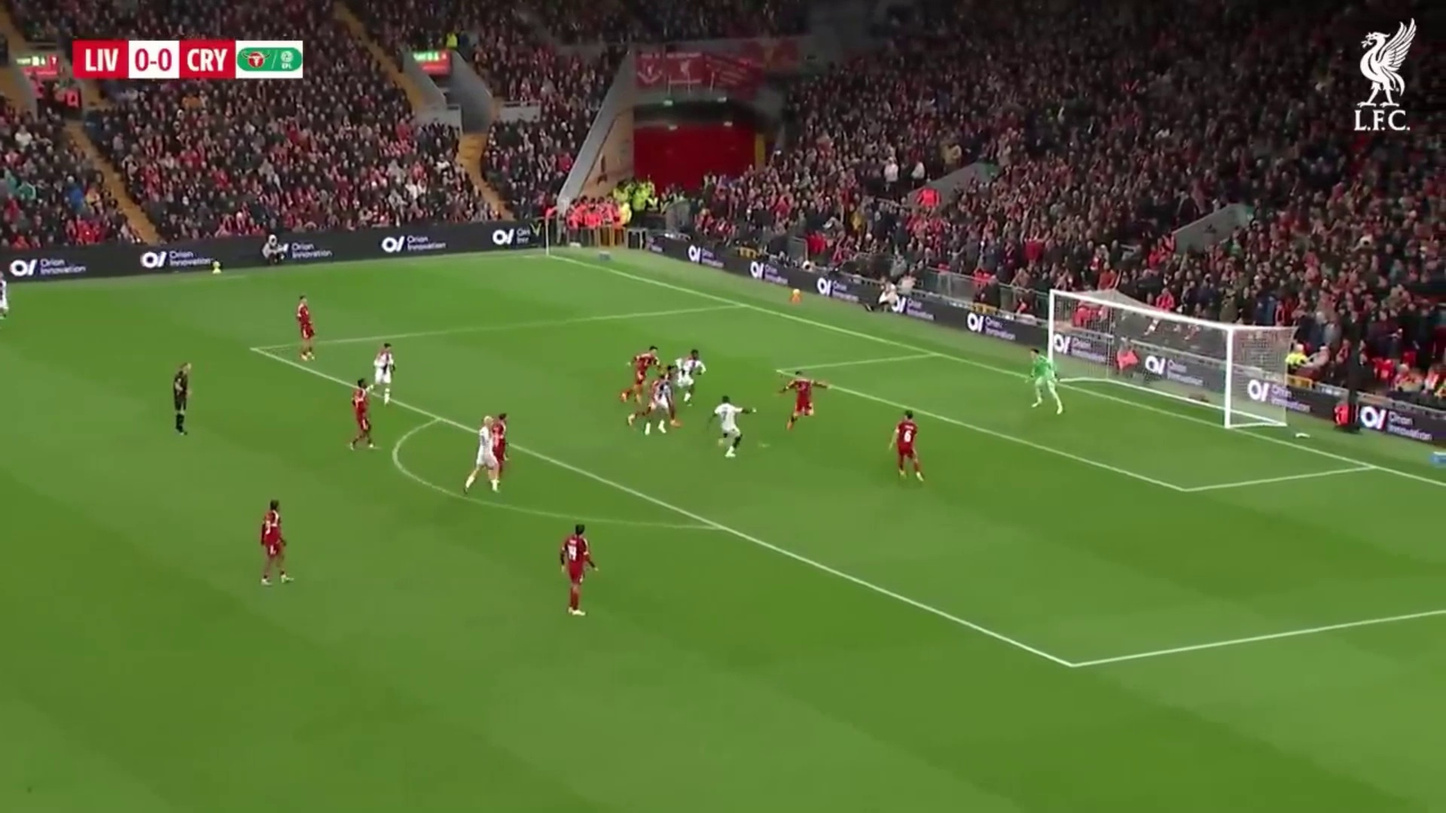player: (463, 411, 509, 495), (561, 524, 592, 617), (258, 499, 291, 586), (891, 409, 926, 484), (1027, 353, 1065, 414), (711, 396, 747, 459), (347, 381, 375, 450), (785, 373, 816, 427), (170, 363, 192, 436), (294, 296, 317, 361), (374, 343, 396, 403)
